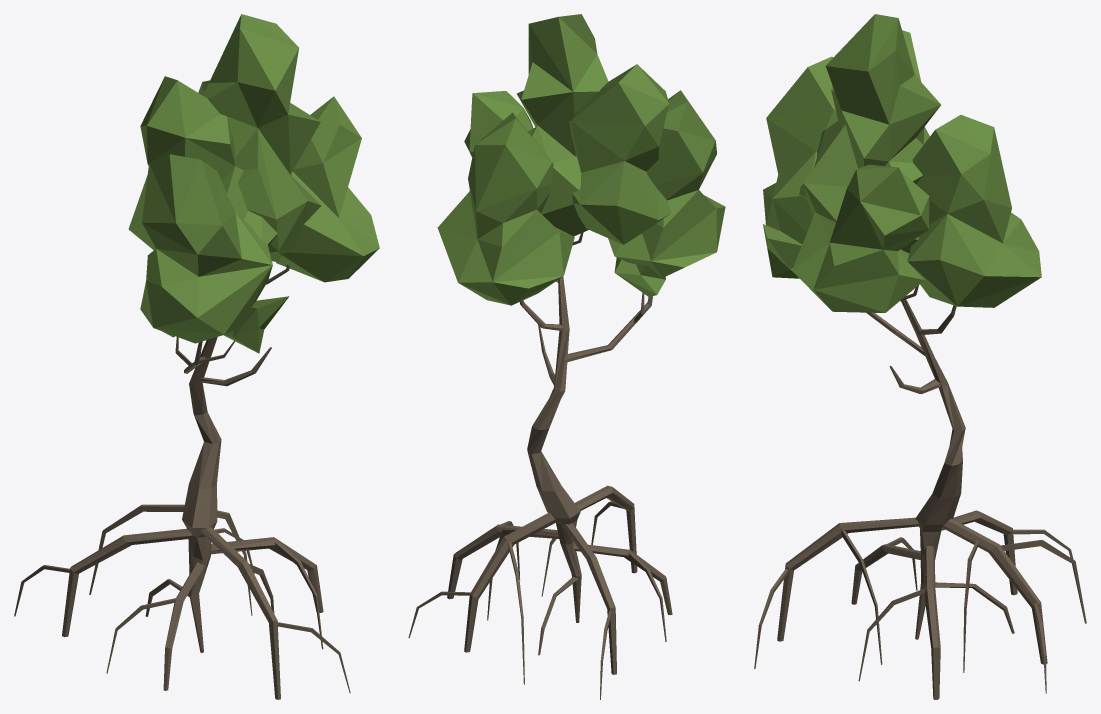
The model's file is SM_Env_Mangrove_Tree_02.glb.
The picture shows the model from 3 angles, left to right: view 1: azimuth 30°, elevation 25°; view 2: azimuth 150°, elevation 25°; view 3: azimuth 270°, elevation 25°; orthographic projection. The views are drawn at different scales.
Visible parts, largest first — view 1: SM_Env_Mangrove_Tree_02_part00; view 2: SM_Env_Mangrove_Tree_02_part00; view 3: SM_Env_Mangrove_Tree_02_part00.
Part boxes in pixels (x1,y1,x2,y2): SM_Env_Mangrove_Tree_02_part00: [14, 14, 379, 699]; SM_Env_Mangrove_Tree_02_part00: [408, 14, 725, 699]; SM_Env_Mangrove_Tree_02_part00: [754, 14, 1086, 699].
Bounding box in the file's own units: 1.73 × 4.3 × 2.04.
Materials: 1 (1 with a texture image).
